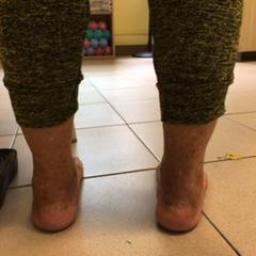Back View -Both Feet-: (16, 128, 228, 246)
